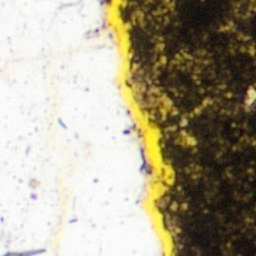cement_matrix: (121, 0, 255, 255), (161, 99, 169, 109), (185, 137, 190, 141)
cracks: (100, 0, 175, 255)
gravel_crushed_stones: (0, 0, 163, 255), (248, 91, 255, 102), (162, 100, 168, 108), (186, 138, 189, 140)
